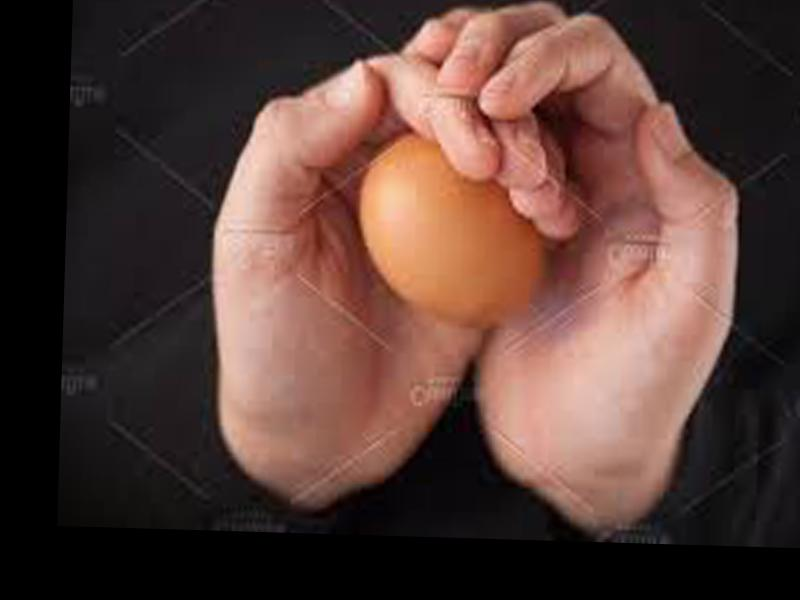Eggs: (354, 137, 558, 330)
